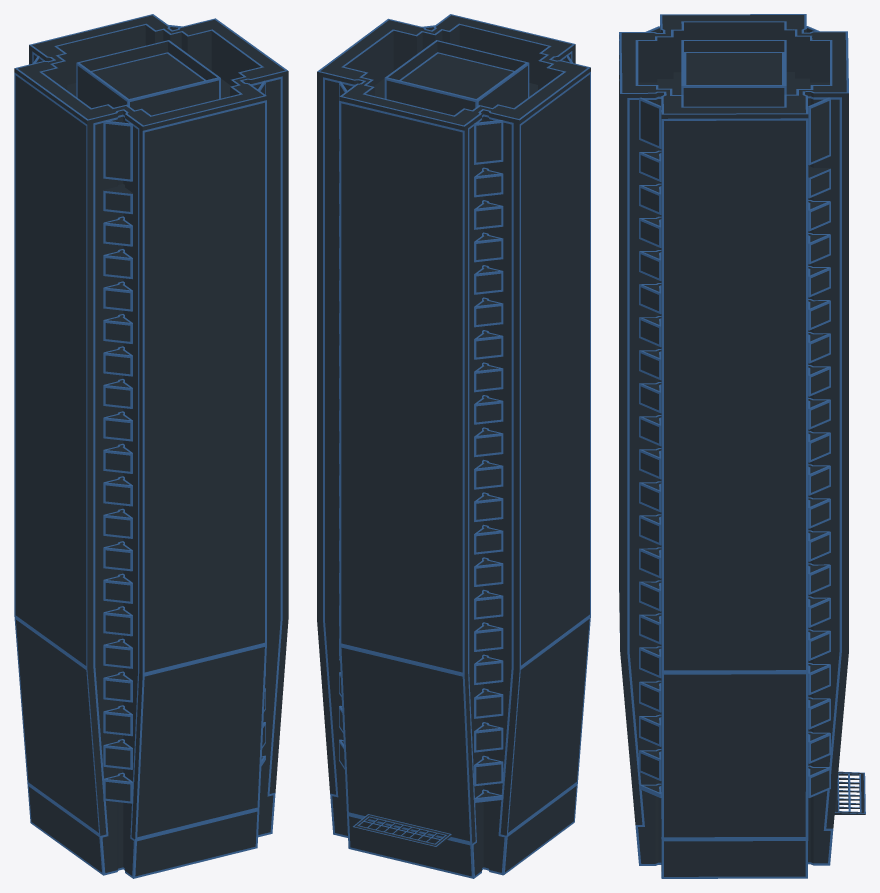
3 renders of one model, left to right at view 1: azimuth 30°, elevation 25°; view 2: azimuth 150°, elevation 25°; view 3: azimuth 270°, elevation 25°, orthographic.
Visible parts, largest first — view 1: 1004 2??; view 2: 1004 2??; view 3: 1004 2??.
Boxes of the visible parts, x1,y1,x2,y2 form: 1004 2??: (14, 14, 288, 878); 1004 2??: (317, 14, 590, 878); 1004 2??: (619, 14, 865, 878).
Size of the model in its own units: 50.38 by 180 by 52.17.
Materials: 2 (2 with a texture image).
